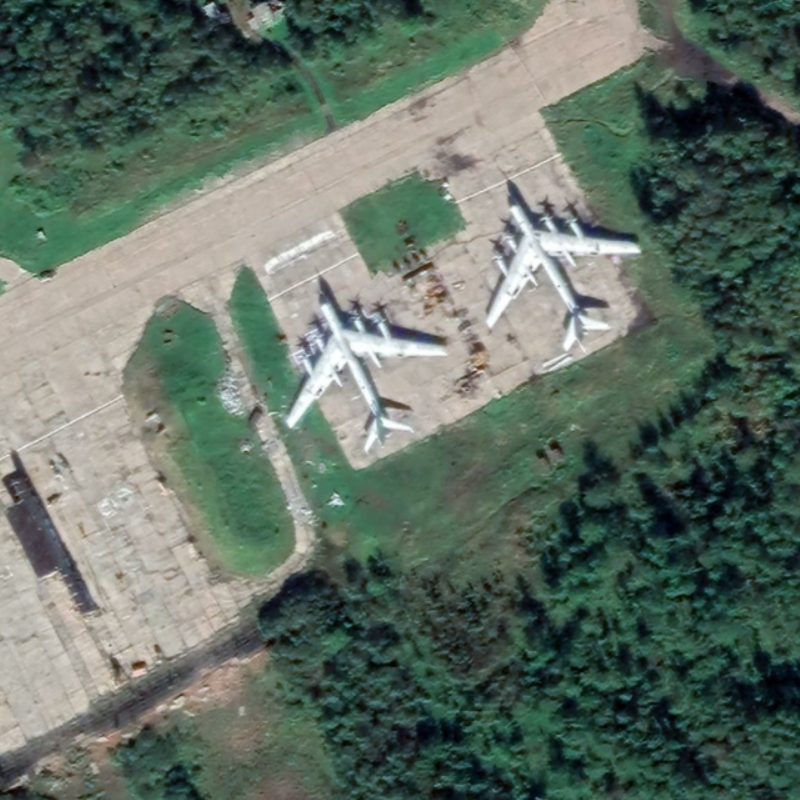A17: (282, 287, 450, 455), (479, 189, 646, 353)
